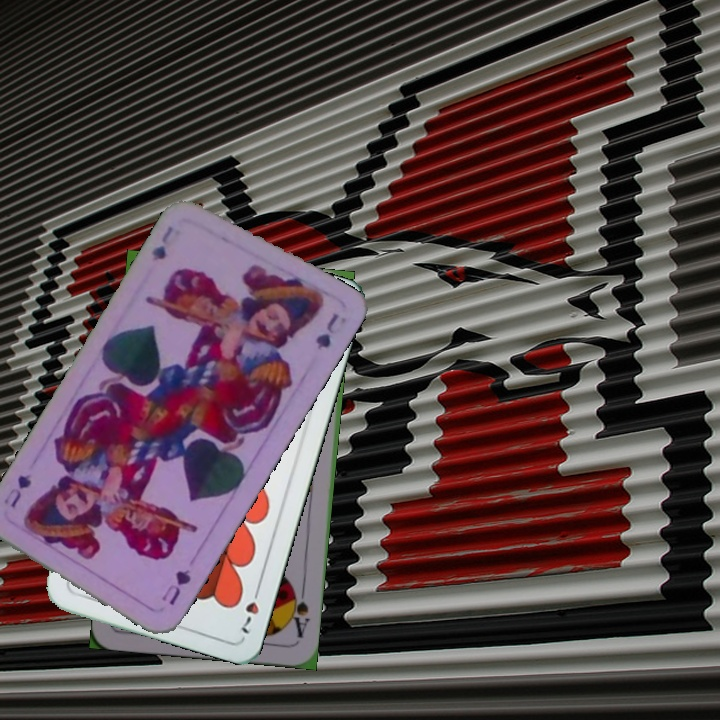GU: (157, 565, 194, 609), (147, 222, 176, 264)
H7: (237, 581, 264, 637)
SA: (285, 582, 313, 640)
